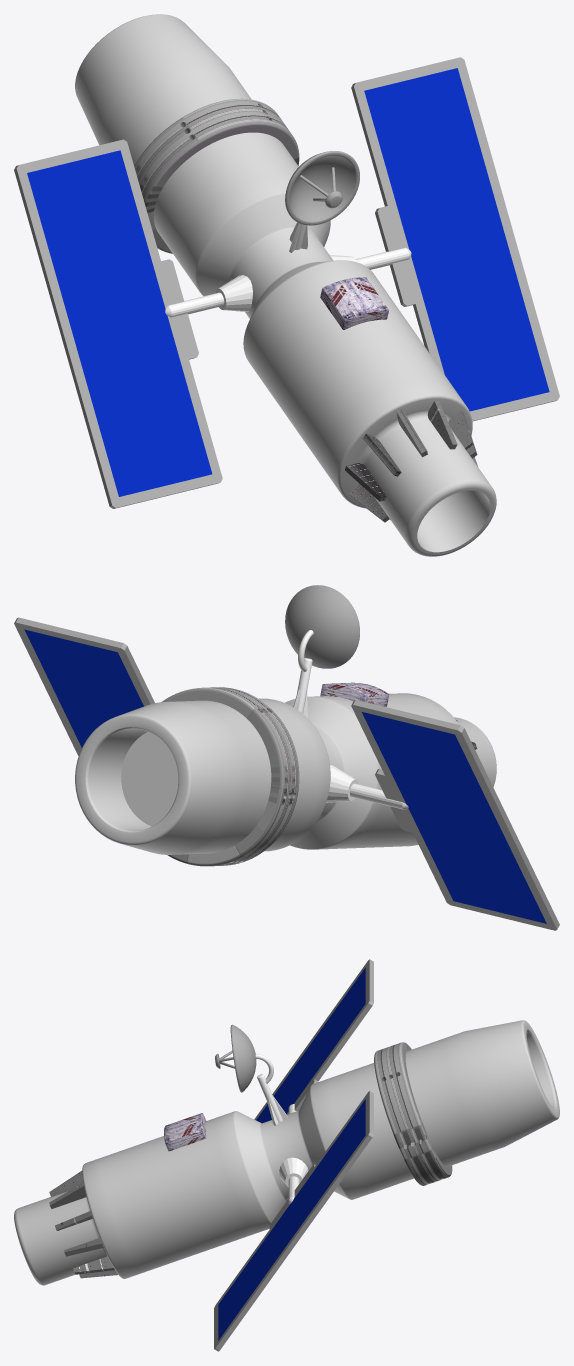
File: GGP.gltf
3 views of the same model, one above another, from view 1: azimuth 30°, elevation 25°; view 2: azimuth 150°, elevation 25°; view 3: azimuth 270°, elevation 25° (orthographic). The views are drawn at different scales.
Visible parts, largest first — view 1: Group044; view 2: Group044; view 3: Group044.
Boxes of the visible parts, x1=… form: Group044: x1=14, y1=14, x2=559, y2=556; Group044: x1=14, y1=585, x2=559, y2=930; Group044: x1=14, y1=959, x2=559, y2=1351.
Bounding box in the file's own units: 881 × 601 × 1163.
Materials: 12 (3 with a texture image).
